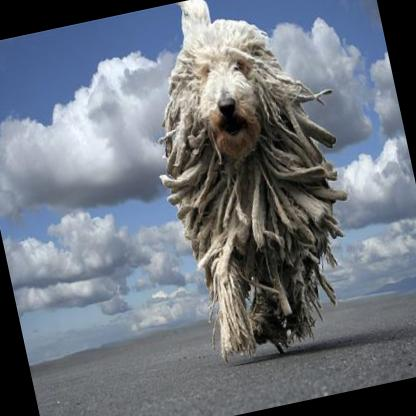komondor: (123, 0, 383, 367)
